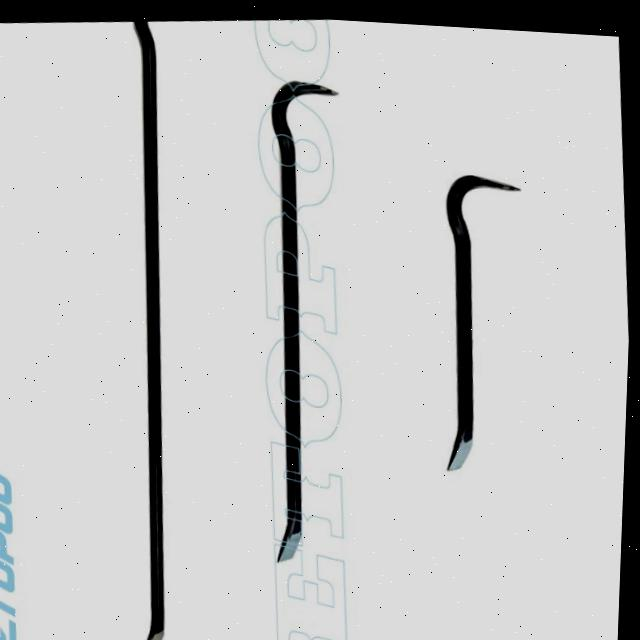crow bar: (269, 72, 339, 552), (444, 164, 526, 460), (136, 18, 174, 640)
